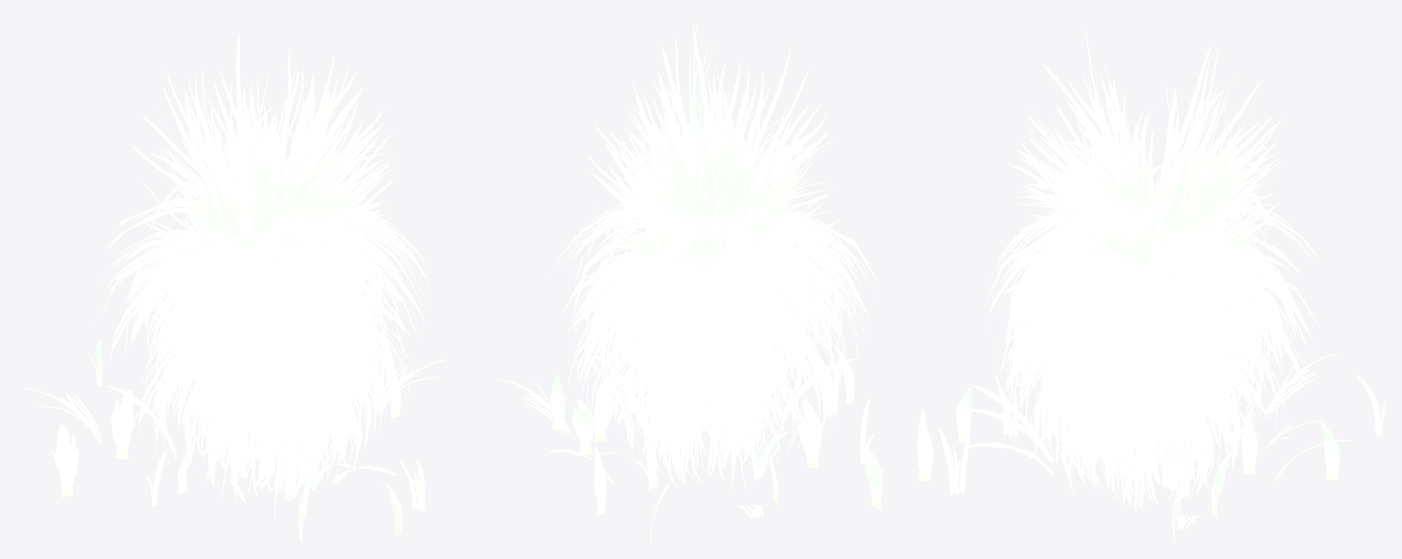
3 views of the same model, side by side, from view 1: azimuth 30°, elevation 25°; view 2: azimuth 150°, elevation 25°; view 3: azimuth 270°, elevation 25° (orthographic). The views are drawn at different scales.
Visible parts, largest first — view 1: SM_SwampSedge_01_LOD0; view 2: SM_SwampSedge_01_LOD0; view 3: SM_SwampSedge_01_LOD0.
Boxes of the visible parts, x1=… form: SM_SwampSedge_01_LOD0: x1=23, y1=33, x2=450, y2=542; SM_SwampSedge_01_LOD0: x1=496, y1=20, x2=884, y2=542; SM_SwampSedge_01_LOD0: x1=917, y1=24, x2=1386, y2=542.
Bounding box in the file's own units: 0.9529 × 1.01 × 0.9278.
1 material, 1 textured.
